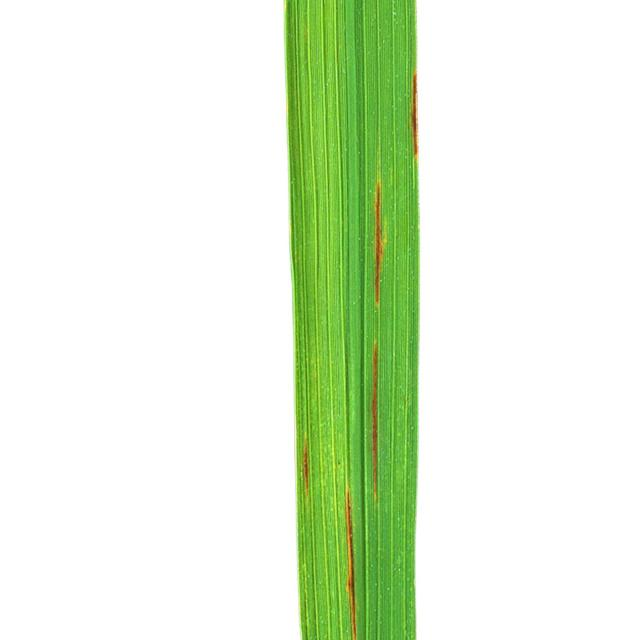Narrow brown: (232, 0, 514, 640)
